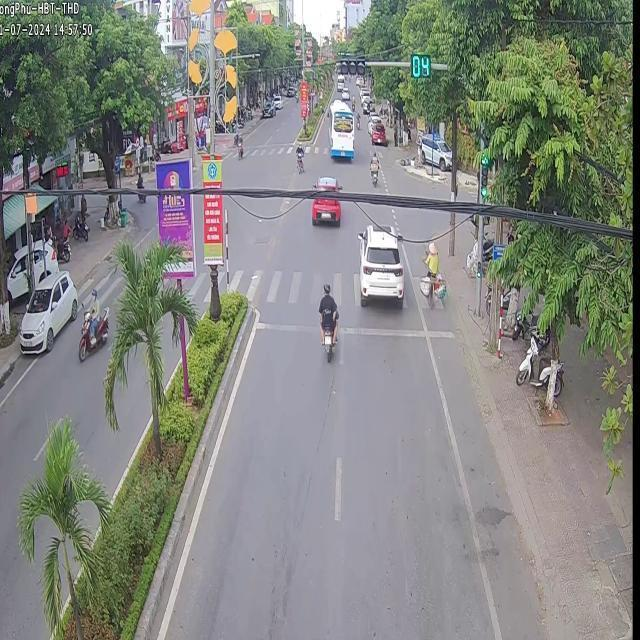car: (356, 222, 400, 305)
green_light: (338, 56, 363, 74), (479, 154, 488, 198)
motobike: (317, 284, 337, 351)
stop_line: (338, 323, 452, 336), (255, 320, 317, 330)
